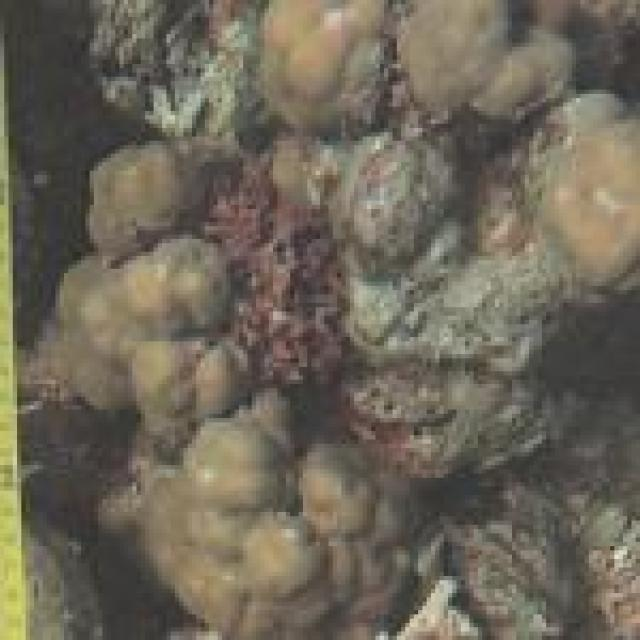Healthy Coral: (98, 436, 413, 640), (23, 147, 239, 426), (224, 1, 576, 121), (182, 164, 346, 385), (510, 86, 639, 324)
